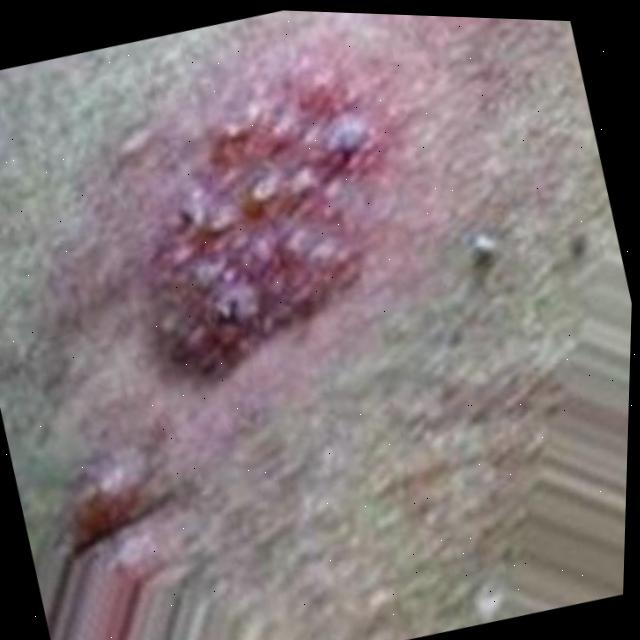Shingles: (102, 63, 400, 378)
